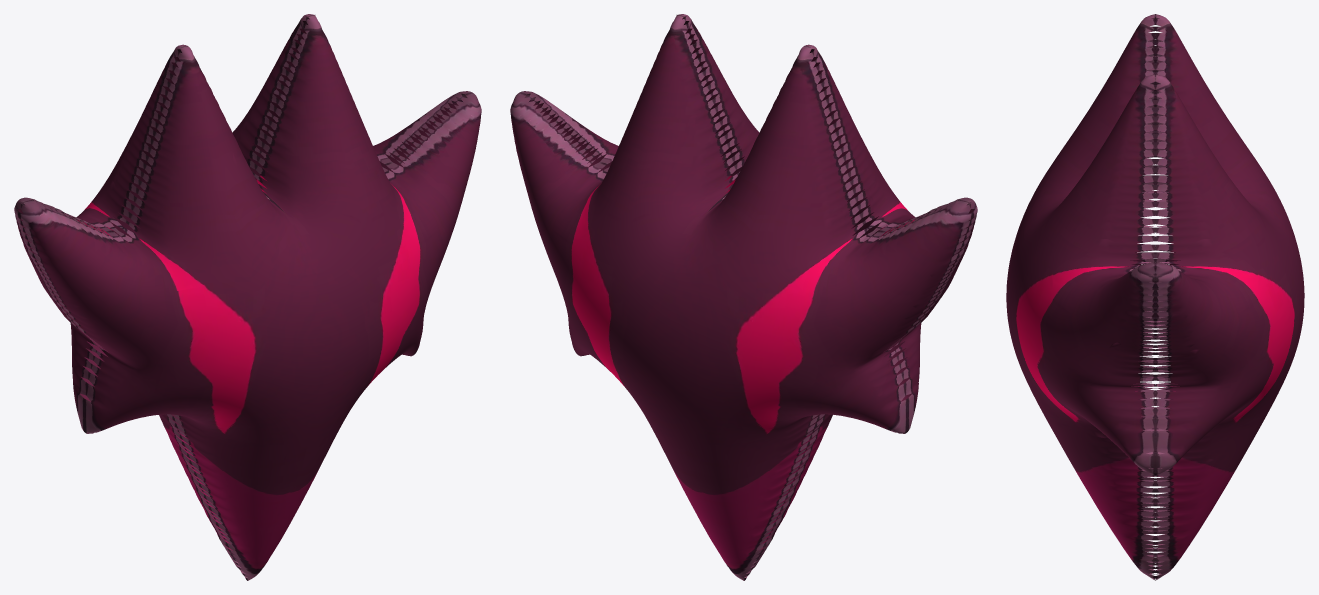
Rendered from horned_plaque.glb.
3 renders of one model, left to right at view 1: azimuth 30°, elevation 25°; view 2: azimuth 150°, elevation 25°; view 3: azimuth 270°, elevation 25°, orthographic. The views are drawn at different scales.
Visible parts, largest first — view 1: horned_plaque; view 2: horned_plaque; view 3: horned_plaque.
Boxes of the visible parts, x1,y1,x2,y2 form: horned_plaque: (14, 14, 481, 580); horned_plaque: (510, 14, 977, 580); horned_plaque: (1006, 14, 1304, 580).
Bounding box in the file's own units: 0.9871 × 1.13 × 0.5716.
1 material, 1 textured.
